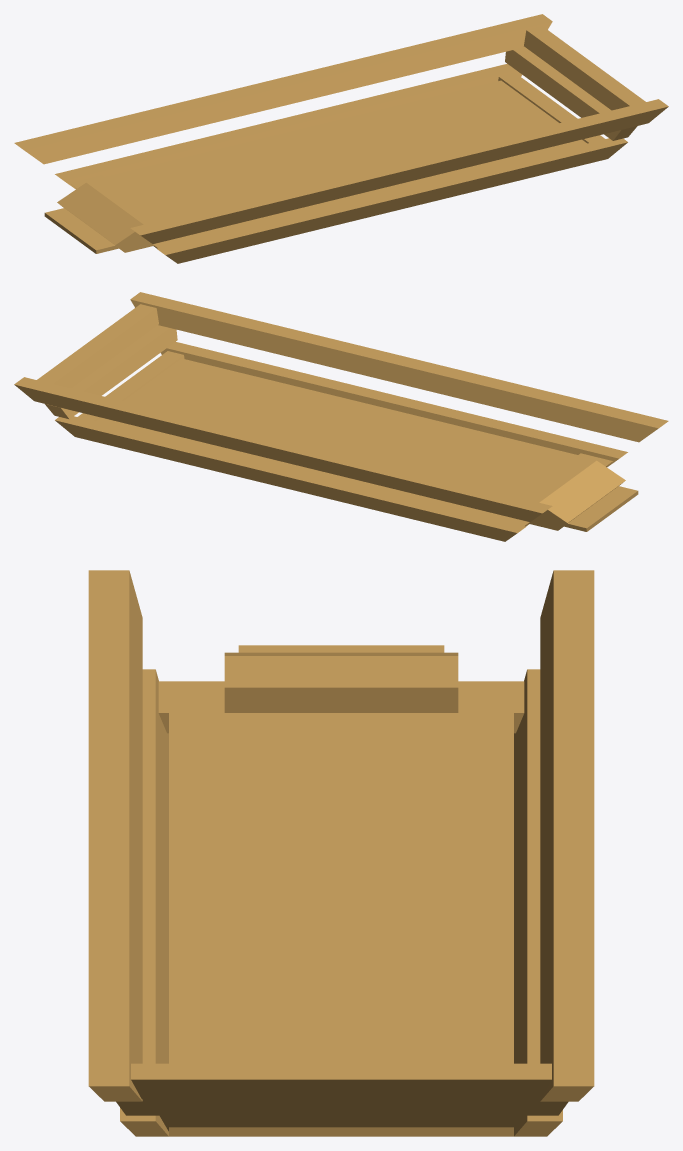
The model's file is wood_plate.fbx.
3 views of the same model, one above another, from view 1: azimuth 30°, elevation 25°; view 2: azimuth 150°, elevation 25°; view 3: azimuth 270°, elevation 25° (orthographic). The views are drawn at different scales.
Visible parts, largest first — view 1: Cube.010; view 2: Cube.010; view 3: Cube.010.
Part boxes in pixels (x1,y1,x2,y2): Cube.010: [14, 14, 668, 263]; Cube.010: [14, 292, 668, 541]; Cube.010: [88, 570, 594, 1136].
Bounding box in the file's own units: 417 × 36.47 × 170.
